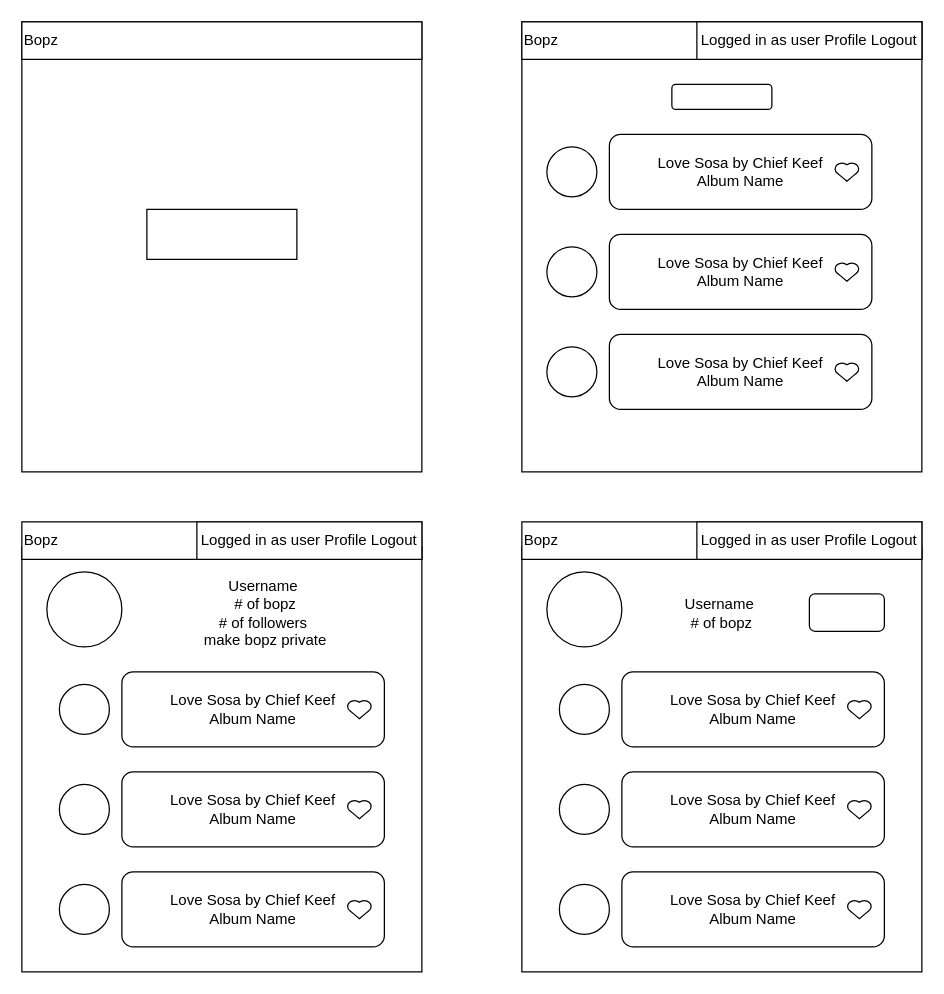
This 944x994 diagram has some shape labels left out. Here are the shapes that lost their labels. From the top down, the centre of each, then its label:
point (721, 96): Start Bopping
point (221, 233): Log in with Spotify
point (846, 611): Follow
